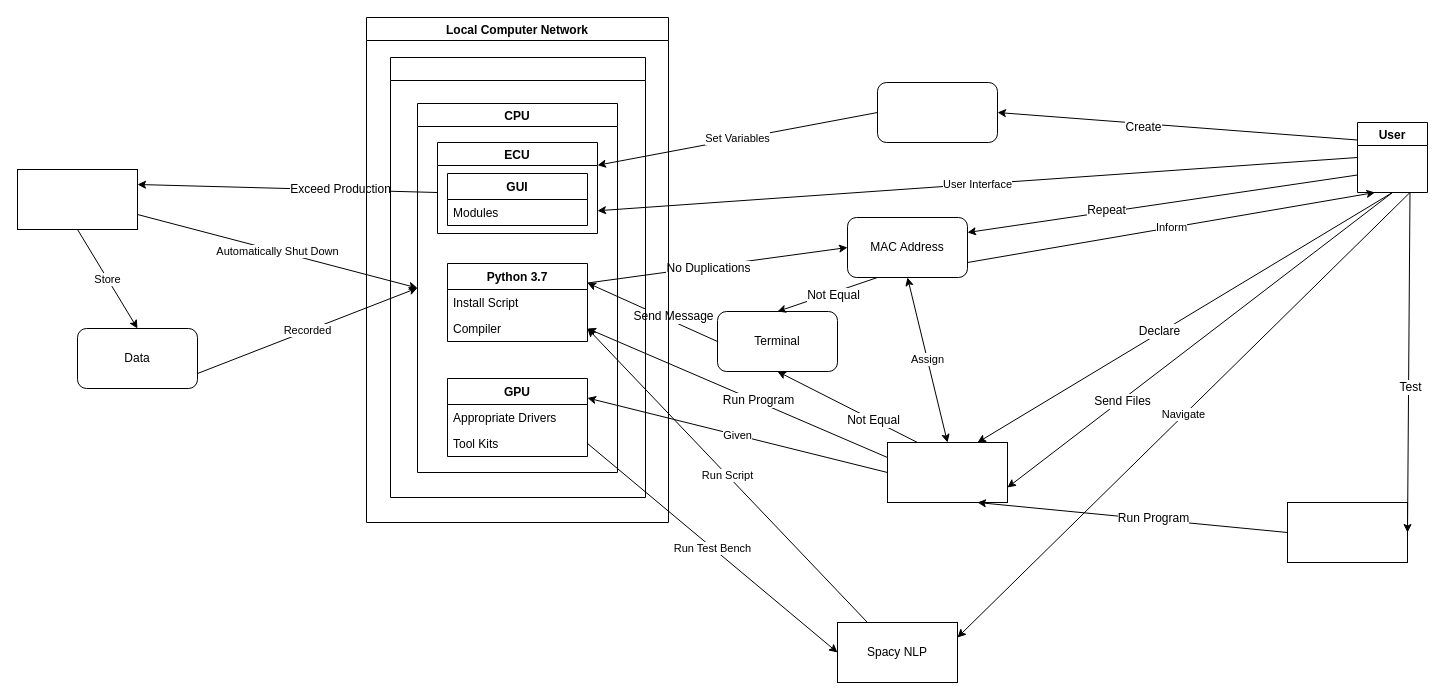
This 1445x700 diagram has some shape labels left out. The centre of each missing label's shape, as x and y in pixels:
"Cluster" goes at [937,112].
"Heat" goes at [77,199].
"Local Network Member" goes at [518,277].
"Multi-Threading" goes at [1347,532].
"Node" goes at [947,472].
